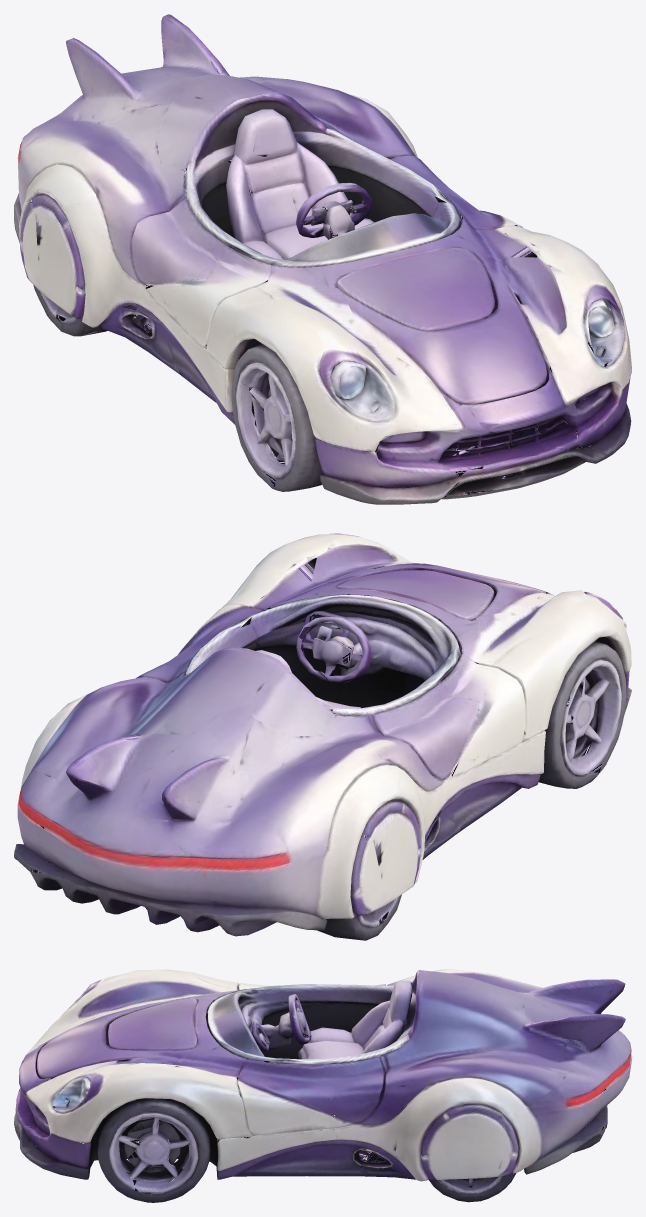
The model's file is nova-mobile.glb.
The picture shows the model from 3 angles, top to bottom: view 1: azimuth 30°, elevation 25°; view 2: azimuth 150°, elevation 25°; view 3: azimuth 270°, elevation 25°; orthographic projection. The views are drawn at different scales.
Parts seen in each view (by area): view 1: model; view 2: model; view 3: model.
Boxes of the visible parts, x1,y1,x2,y2 form: model: (14,14,631,504); model: (14,533,631,940); model: (14,969,631,1202).
Size of the model in its own units: 0.9276 by 0.5769 by 1.9.
Materials: 1 (1 with a texture image).
